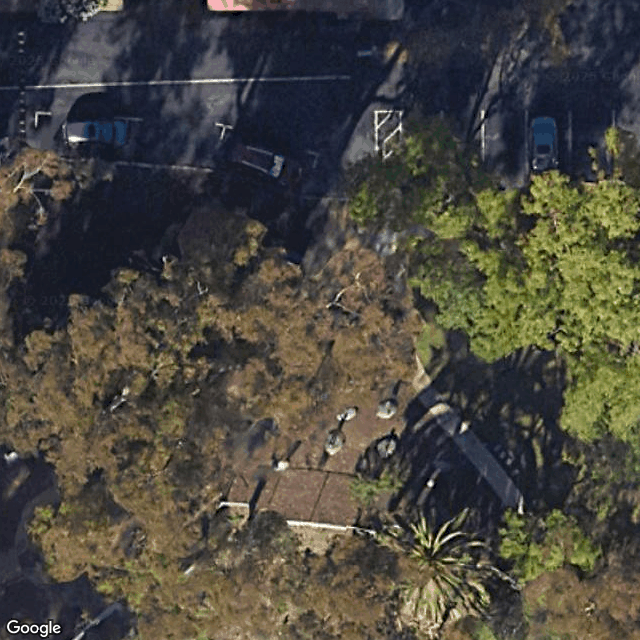palm: (362, 508, 523, 637)
